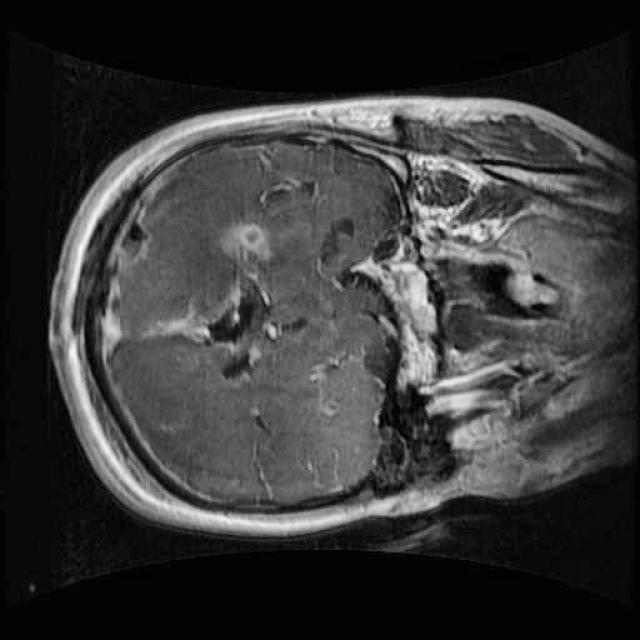Non-Tumor: (140, 210, 320, 392)
